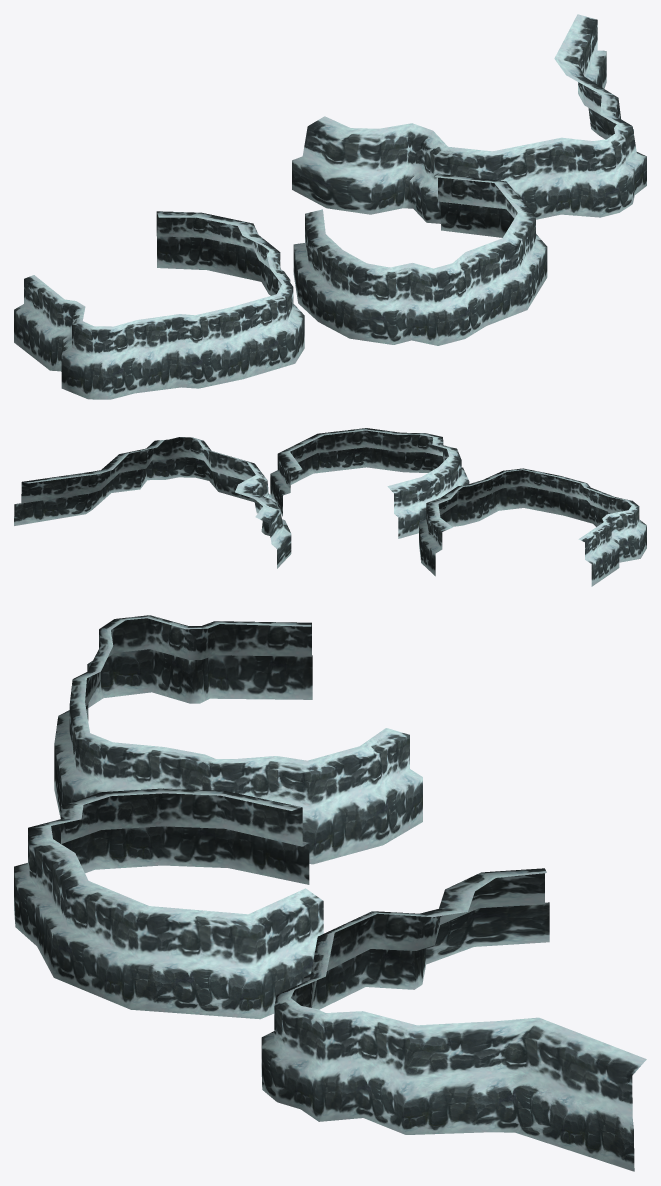
Rendered from terrain_section05_guanka05_01.FBX.
3 views of the same model, one above another, from view 1: azimuth 30°, elevation 25°; view 2: azimuth 150°, elevation 25°; view 3: azimuth 270°, elevation 25° (orthographic). The views are drawn at different scales.
Parts seen in each view (by area): view 1: terrain_section05_guanka05_01; view 2: terrain_section05_guanka05_01; view 3: terrain_section05_guanka05_01.
Boxes of the visible parts, x1,y1,x2,y2 form: terrain_section05_guanka05_01: [14, 14, 646, 399]; terrain_section05_guanka05_01: [14, 428, 646, 586]; terrain_section05_guanka05_01: [14, 615, 646, 1171].
Bounding box in the file's own units: 150 × 14.08 × 83.59.
